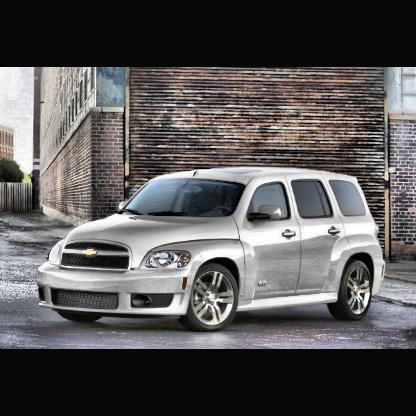Chevrolet HHR SS 2010: (35, 163, 389, 334)
